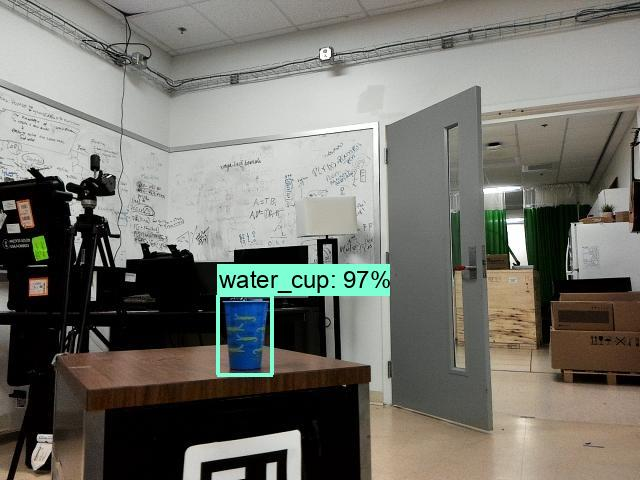water_cup: (214, 297, 275, 374)
